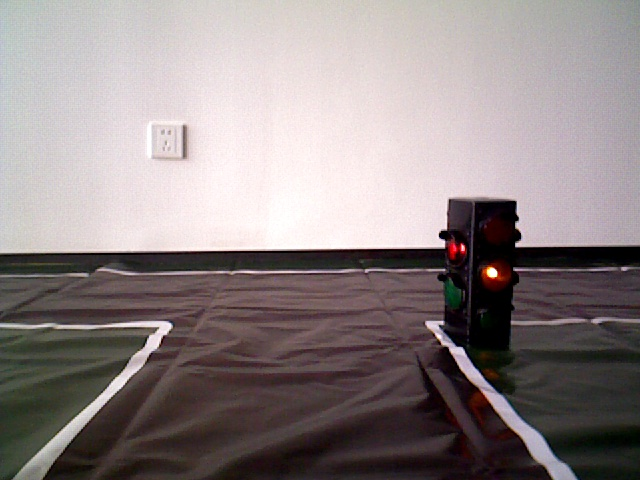yellow: (448, 196, 511, 342)
